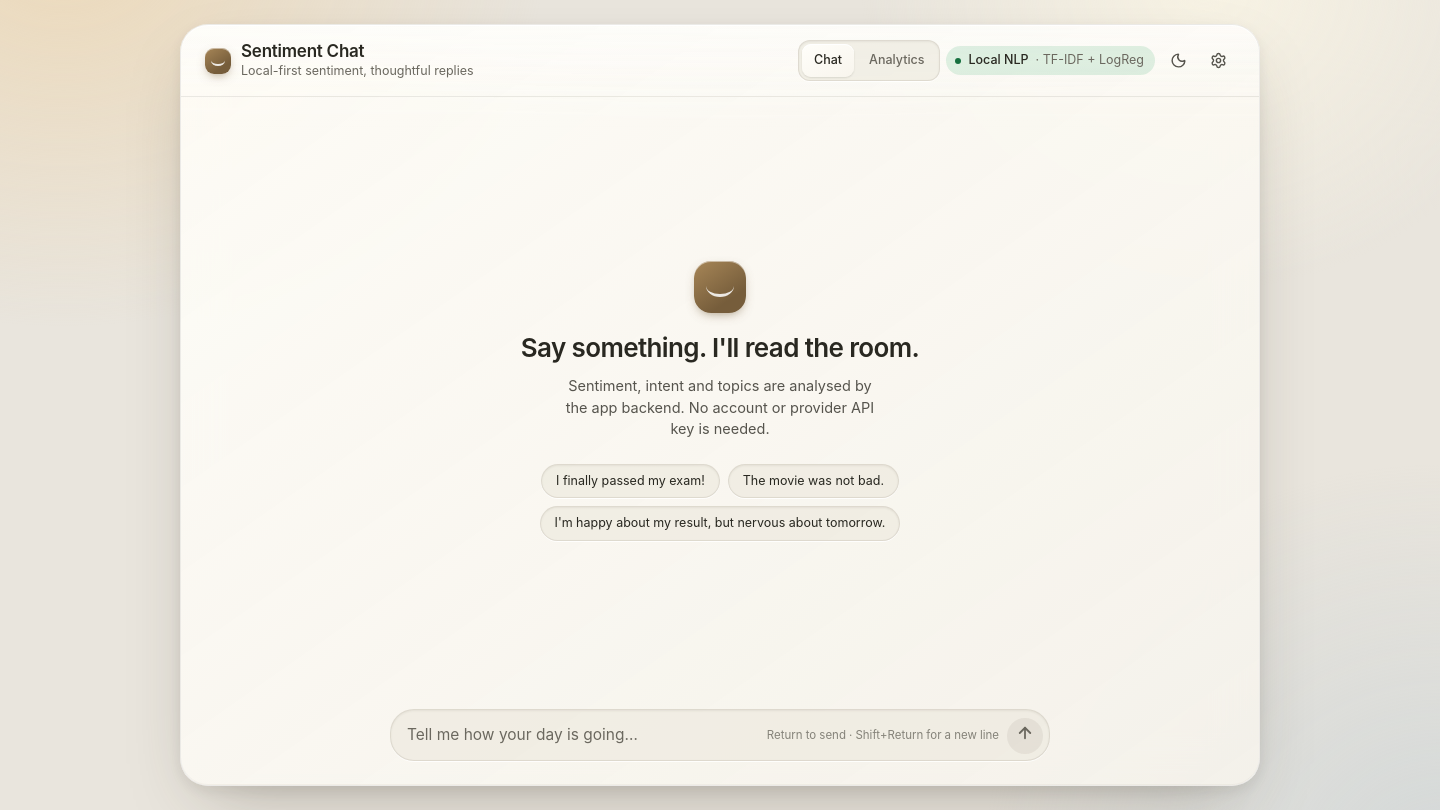
Test: shows the sent mode in requests (local only)
Click the button named "Open settings": (1218, 61) [1201, 44, 1235, 78]
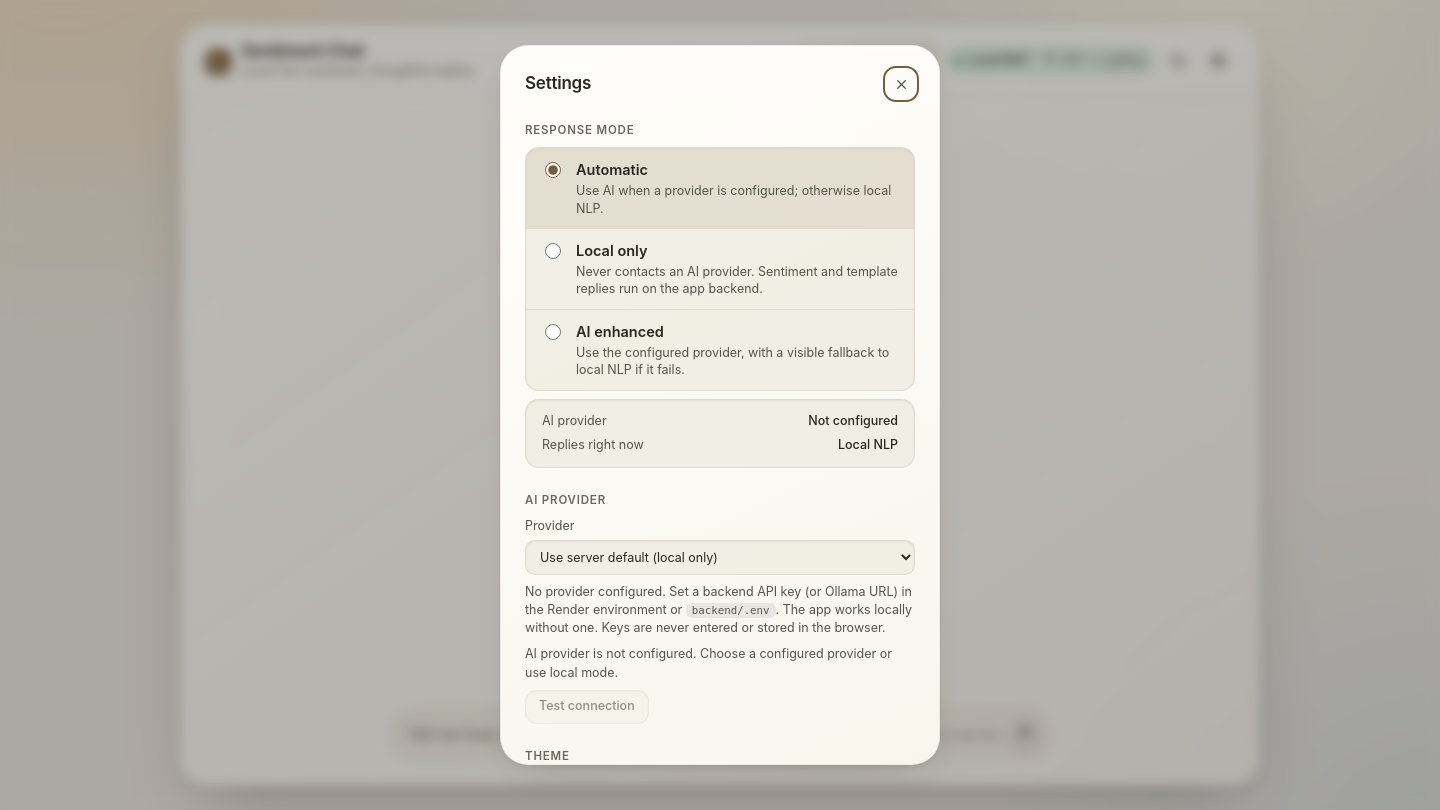
Click the radio button labelled "Local only": (553, 251) [545, 243, 561, 259]
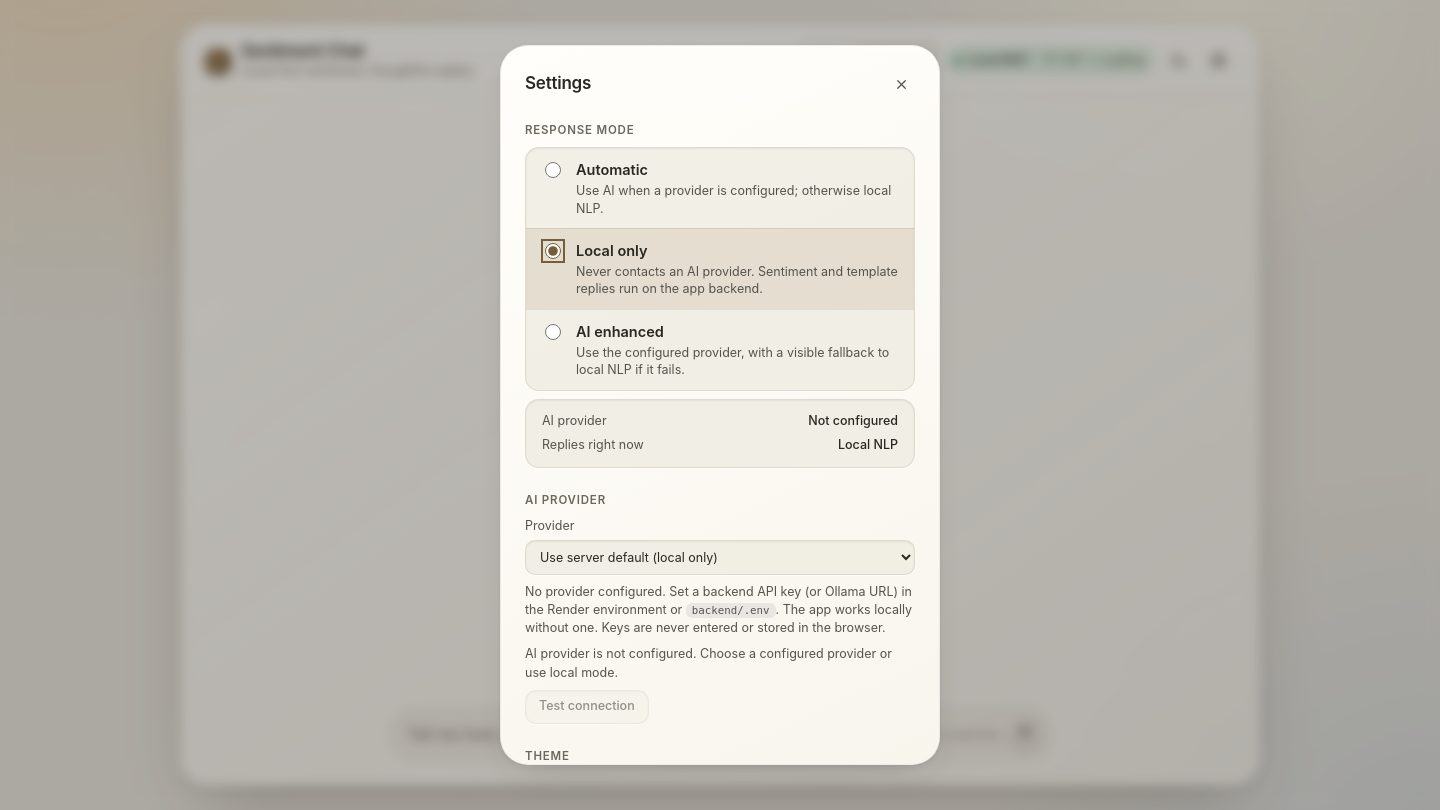
Click the button named "Close settings": (901, 84) [887, 70, 915, 98]
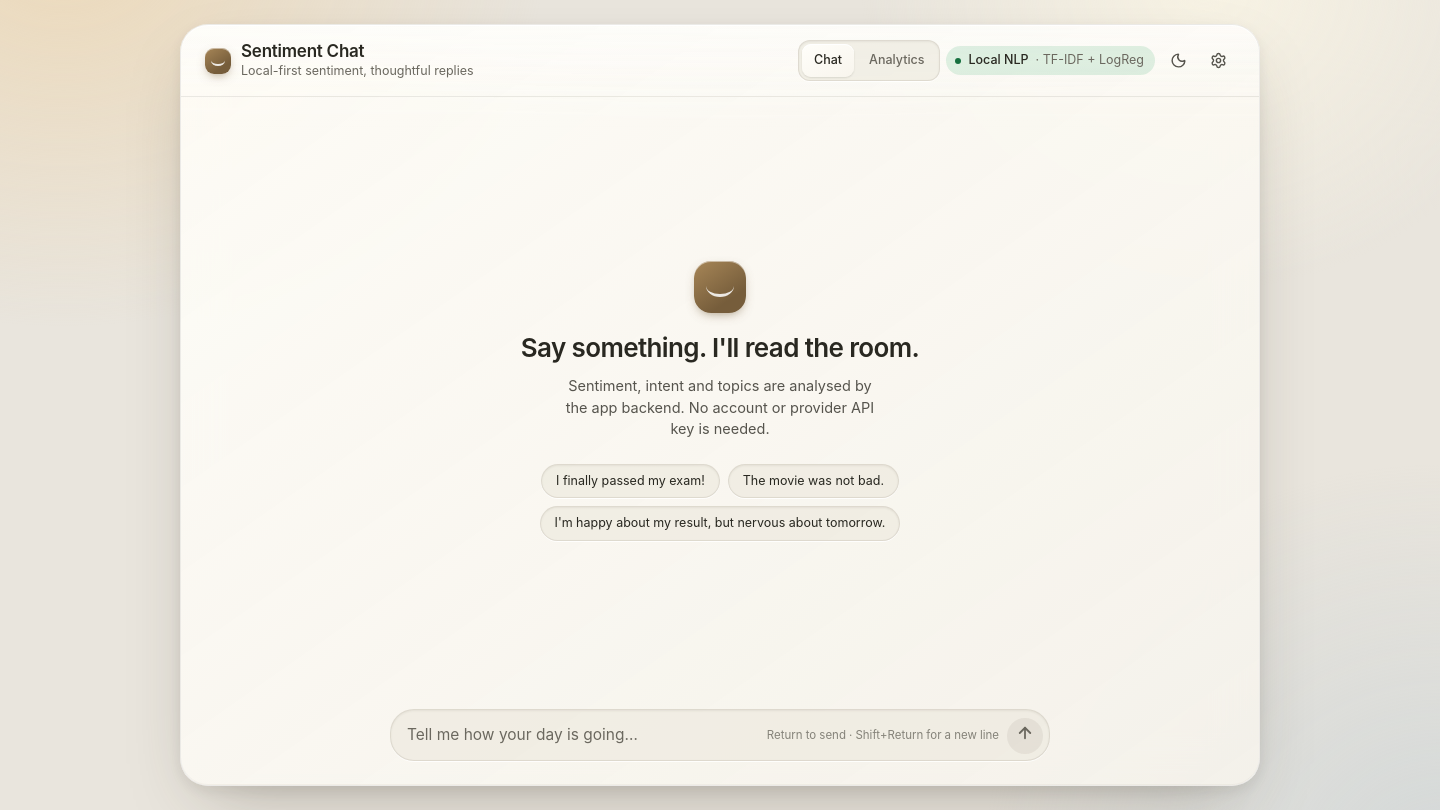
In the text box named "Message": (583, 735) [407, 716, 759, 754], type "hi"
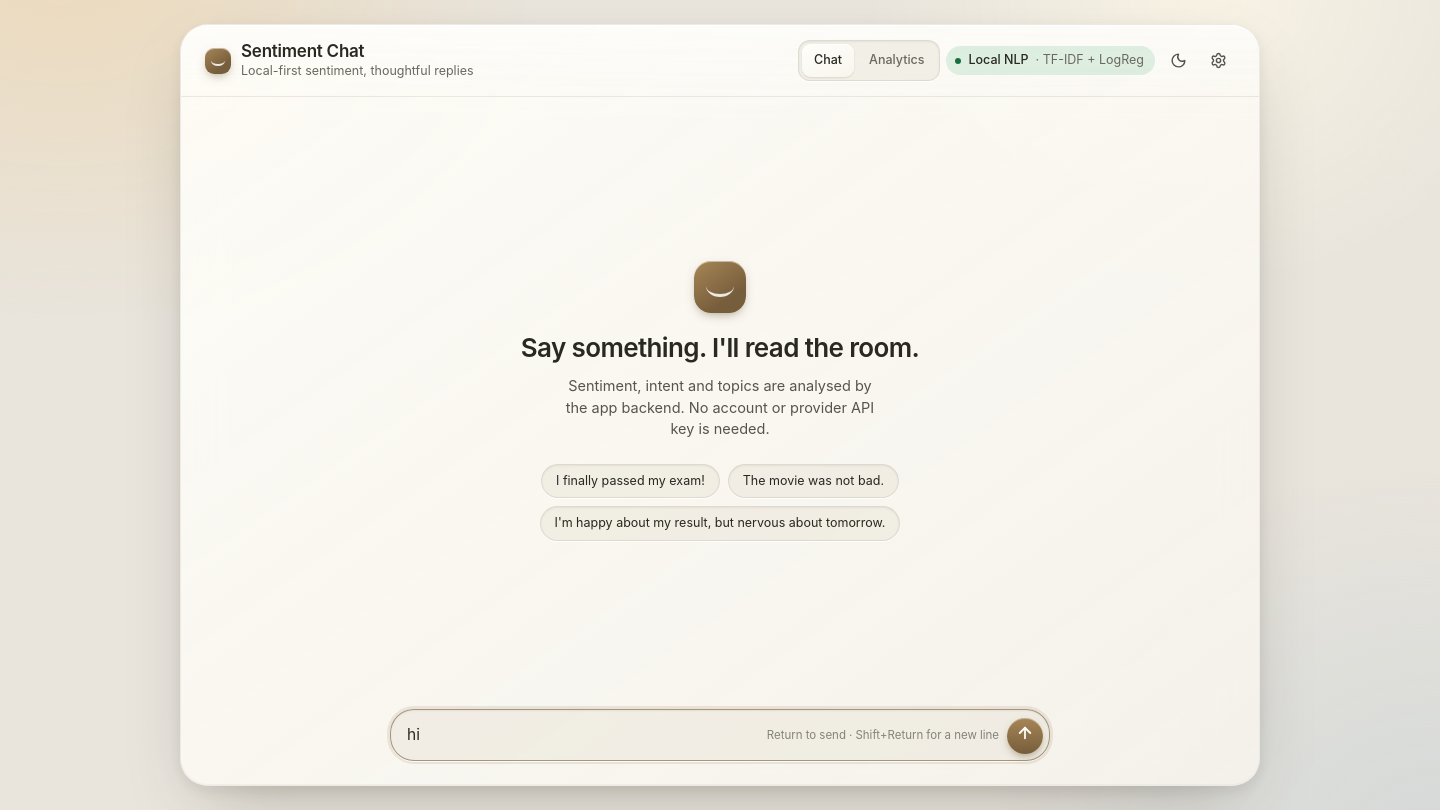
Click the button named "Send message": (1025, 736) [1007, 718, 1043, 754]
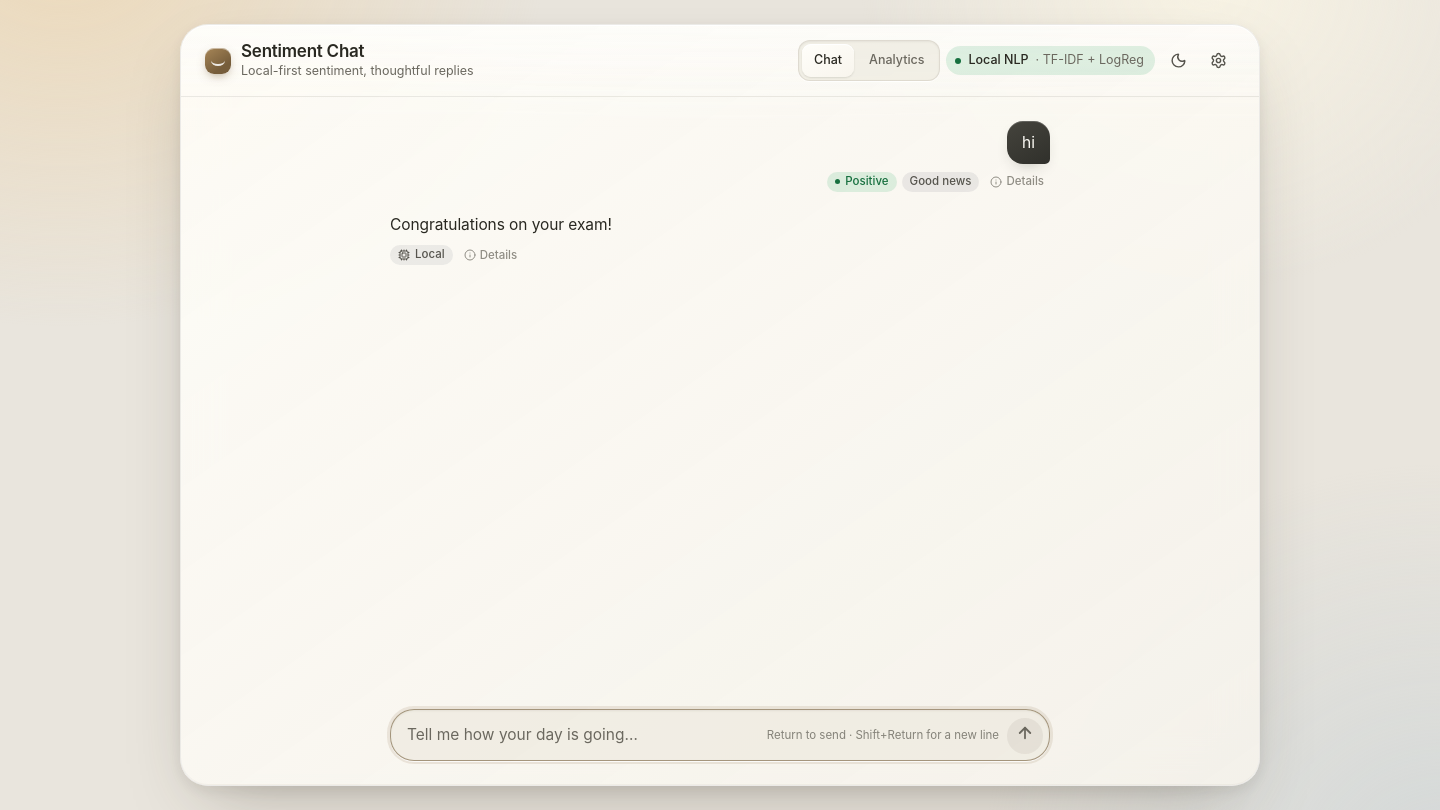
Expected: the text "Congratulations on your exam!" is shown, [390, 212, 612, 238]
